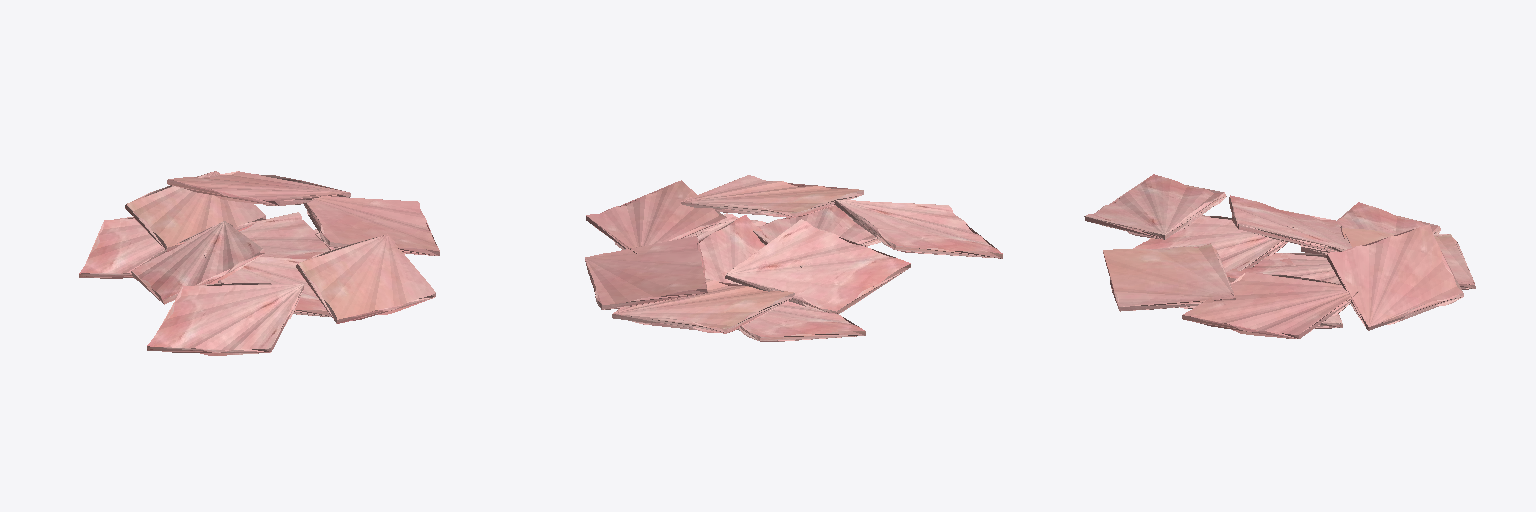
3 renders of one model, left to right at view 1: azimuth 30°, elevation 25°; view 2: azimuth 150°, elevation 25°; view 3: azimuth 270°, elevation 25°, orthographic.
Parts seen in each view (by area): view 1: Cube.009_Cube.010, Cube.004_Cube.005, Cube.006_Cube.007, Cube.005_Cube.006, Cube.008_Cube.009, Cube.010_Cube.011, Cube.007_Cube.008, Cube.002_Cube.003, Cube.003_Cube.004; view 2: Cube.005_Cube.006, Cube.010_Cube.011, Cube.009_Cube.010, Cube.006_Cube.007, Cube.008_Cube.009, Cube.004_Cube.005, Cube.007_Cube.008, Cube.002_Cube.003, Cube.003_Cube.004; view 3: Cube.010_Cube.011, Cube.006_Cube.007, Cube.004_Cube.005, Cube.009_Cube.010, Cube.005_Cube.006, Cube.003_Cube.004, Cube.002_Cube.003, Cube.007_Cube.008, Cube.008_Cube.009.
Part boxes in pixels (left/top/right/bottom): Cube.009_Cube.010: left=147, top=283, right=303, bottom=355; Cube.004_Cube.005: left=296, top=234, right=435, bottom=323; Cube.006_Cube.007: left=304, top=195, right=439, bottom=255; Cube.005_Cube.006: left=131, top=221, right=264, bottom=304; Cube.008_Cube.009: left=125, top=171, right=265, bottom=251; Cube.010_Cube.011: left=167, top=171, right=350, bottom=205; Cube.007_Cube.008: left=79, top=216, right=164, bottom=278; Cube.002_Cube.003: left=240, top=212, right=330, bottom=258; Cube.003_Cube.004: left=203, top=253, right=330, bottom=316; Cube.005_Cube.006: left=725, top=219, right=910, bottom=313; Cube.010_Cube.011: left=585, top=236, right=707, bottom=309; Cube.009_Cube.010: left=834, top=200, right=1002, bottom=258; Cube.006_Cube.007: left=586, top=180, right=728, bottom=253; Cube.008_Cube.009: left=612, top=279, right=794, bottom=333; Cube.004_Cube.005: left=681, top=175, right=863, bottom=217; Cube.007_Cube.008: left=737, top=301, right=865, bottom=341; Cube.002_Cube.003: left=699, top=215, right=764, bottom=284; Cube.003_Cube.004: left=753, top=205, right=880, bottom=267; Cube.010_Cube.011: left=1326, top=224, right=1463, bottom=330; Cube.006_Cube.007: left=1182, top=272, right=1358, bottom=338; Cube.004_Cube.005: left=1103, top=243, right=1235, bottom=311; Cube.009_Cube.010: left=1084, top=174, right=1226, bottom=239; Cube.005_Cube.006: left=1229, top=195, right=1351, bottom=252; Cube.003_Cube.004: left=1133, top=215, right=1298, bottom=271; Cube.002_Cube.003: left=1226, top=253, right=1340, bottom=283; Cube.007_Cube.008: left=1301, top=202, right=1440, bottom=258; Cube.008_Cube.009: left=1341, top=228, right=1475, bottom=289.
Size of the model in its own units: 0.4797 by 0.0689 by 0.4715.
1 materials, 1 textured.